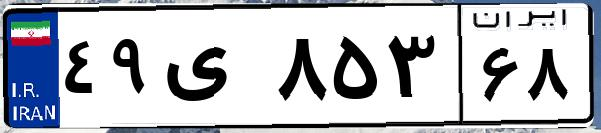3: (385, 28, 445, 110)
4: (57, 26, 110, 100)
5: (330, 28, 385, 110)
6: (475, 38, 525, 113)
8: (270, 28, 330, 110), (525, 38, 570, 115)
9: (110, 28, 158, 98)
ی: (158, 20, 270, 120)
